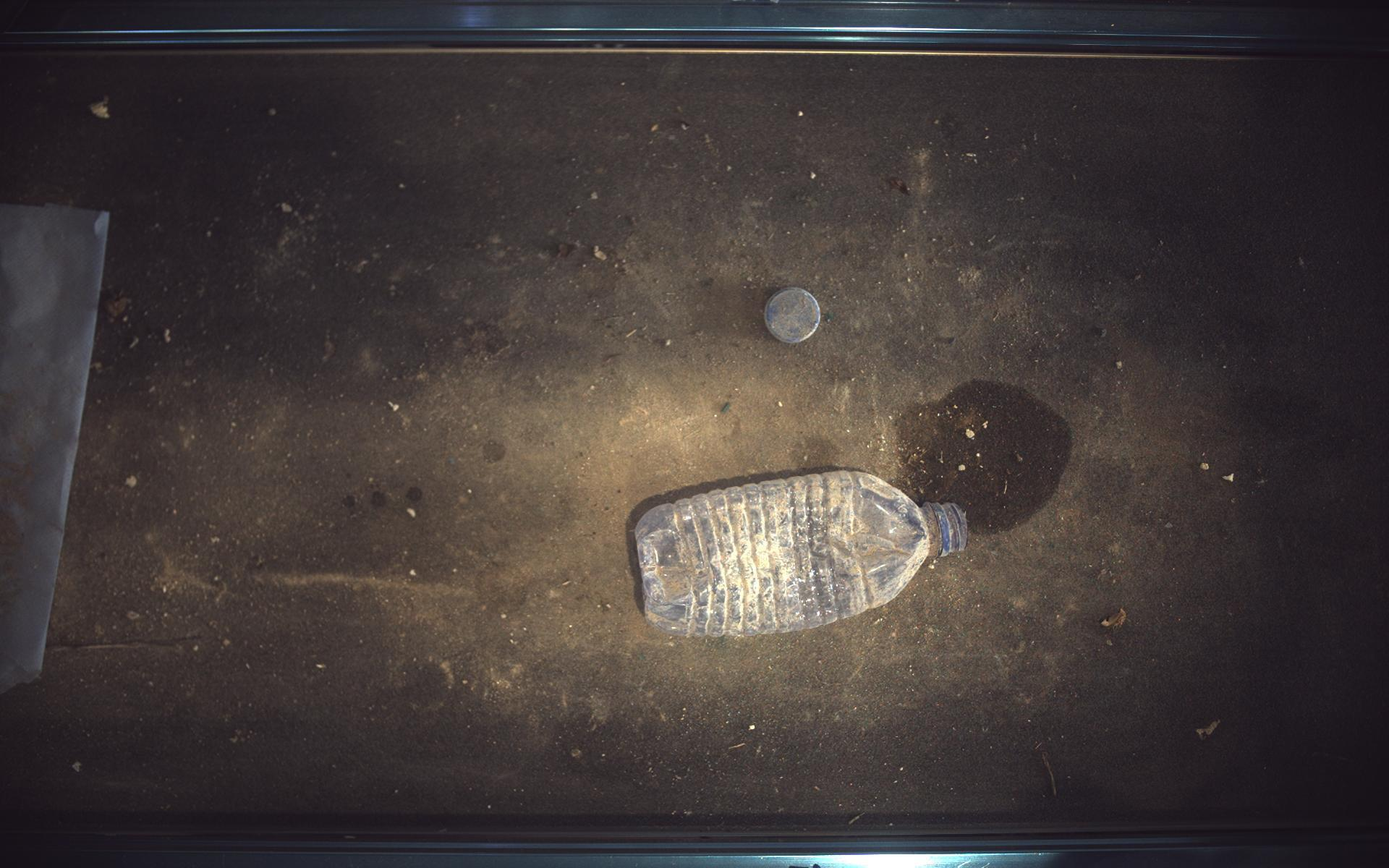general_w: (636, 471, 969, 637), (766, 286, 822, 344)
